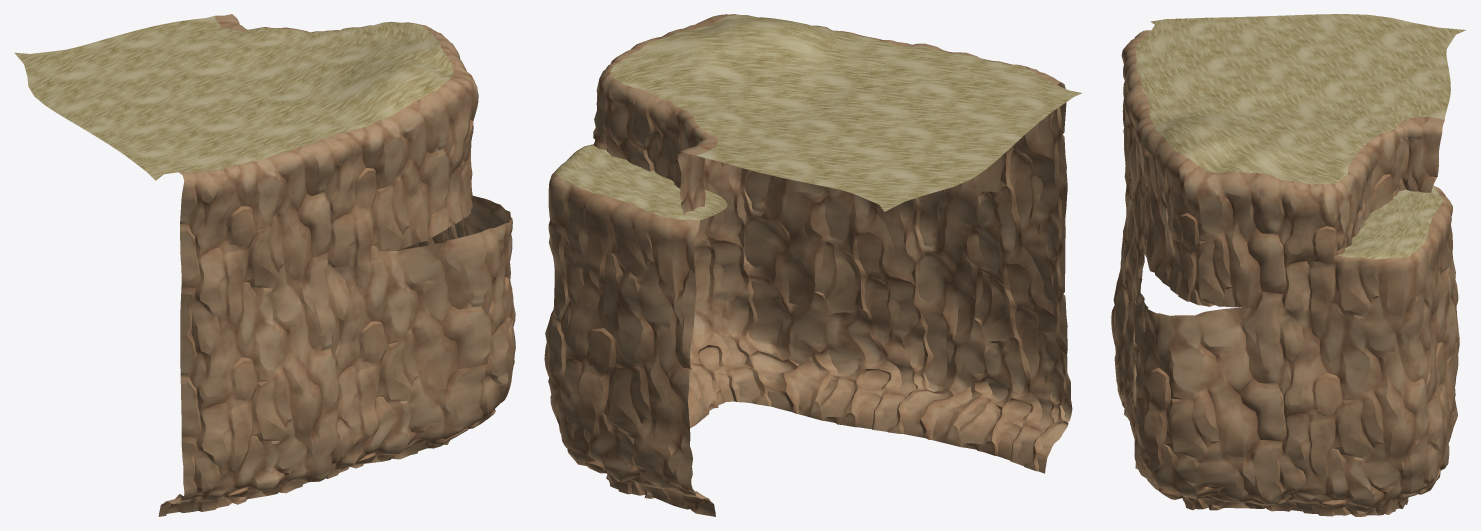
File: SM_ENV_KNFRST_Cliff_Ac.FBX
3 views of the same model, side by side, from view 1: azimuth 30°, elevation 25°; view 2: azimuth 150°, elevation 25°; view 3: azimuth 270°, elevation 25° (orthographic). The views are drawn at different scales.
Visible parts, largest first — view 1: SM_ENV_KNFRST_Cliff_Ac; view 2: SM_ENV_KNFRST_Cliff_Ac; view 3: SM_ENV_KNFRST_Cliff_Ac.
Boxes of the visible parts, box(x1,y1,x2,y2) form: SM_ENV_KNFRST_Cliff_Ac: box(14, 14, 515, 516); SM_ENV_KNFRST_Cliff_Ac: box(544, 14, 1081, 516); SM_ENV_KNFRST_Cliff_Ac: box(1111, 14, 1465, 516).
Bounding box in the file's own units: 4436 × 4067 × 3660.
